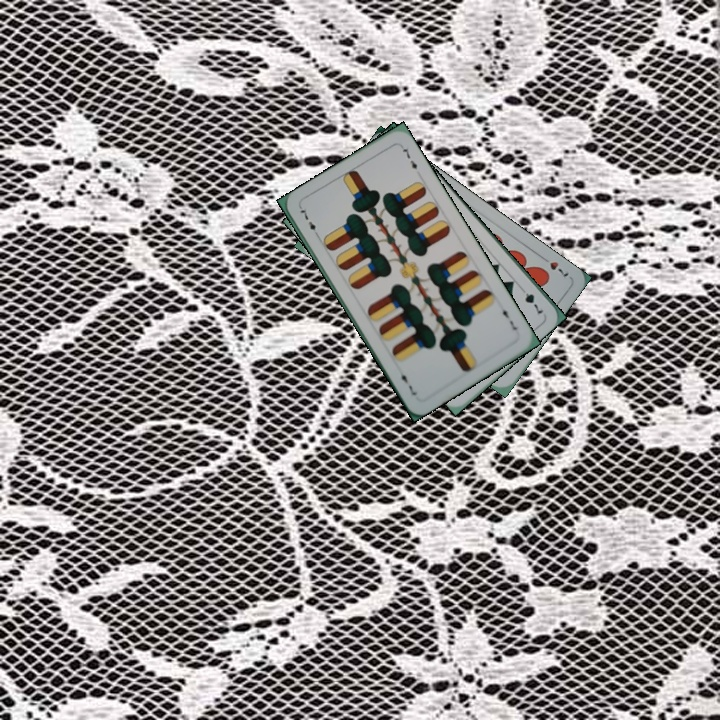E7: (296, 203, 322, 240), (497, 301, 520, 333)
G7: (515, 282, 546, 317)
H7: (537, 252, 571, 280)
